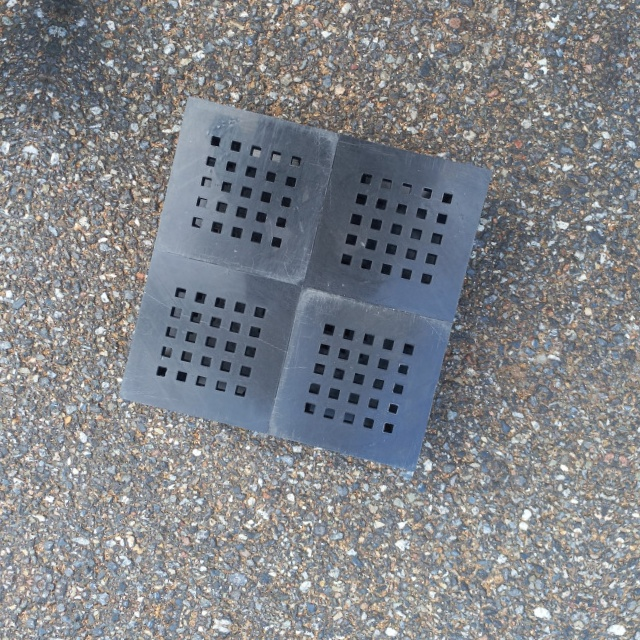pallet: (107, 85, 513, 497)
